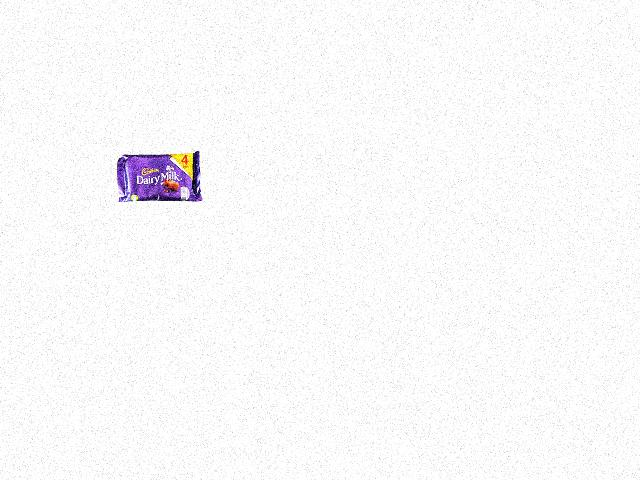chocolate: (114, 151, 211, 208)
